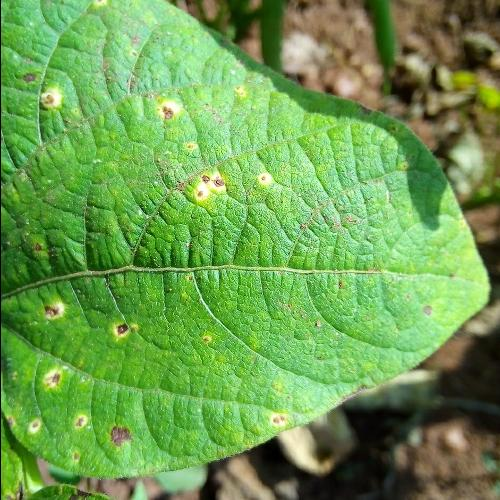hawar: (18, 290, 154, 388), (22, 418, 136, 451), (180, 166, 234, 206), (147, 96, 182, 128), (414, 293, 438, 324), (34, 88, 59, 112), (264, 410, 293, 430)
mozaik: (1, 116, 386, 396)
